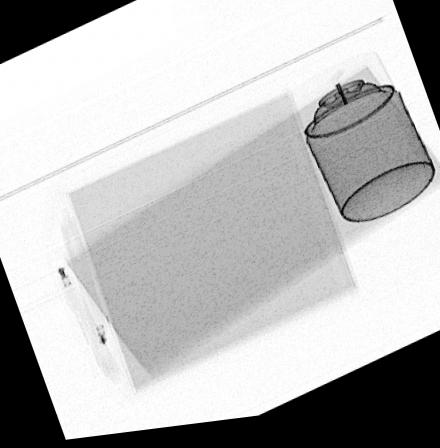Sprayer: (286, 57, 435, 230)
